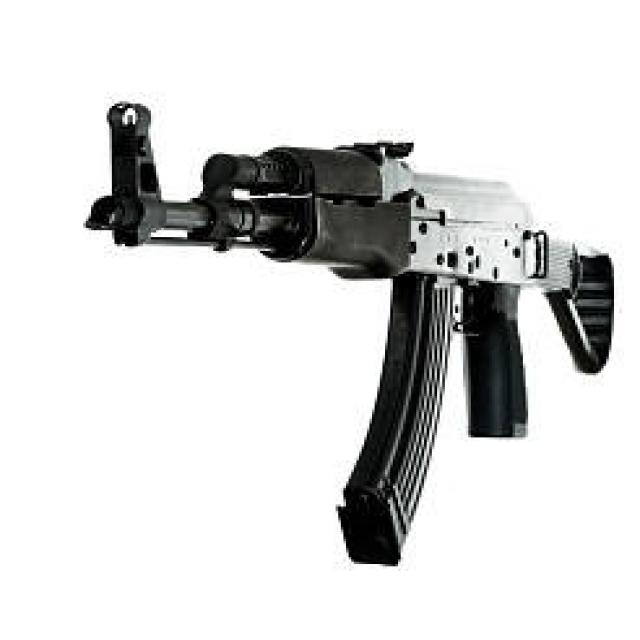rifle: (84, 94, 626, 568)
